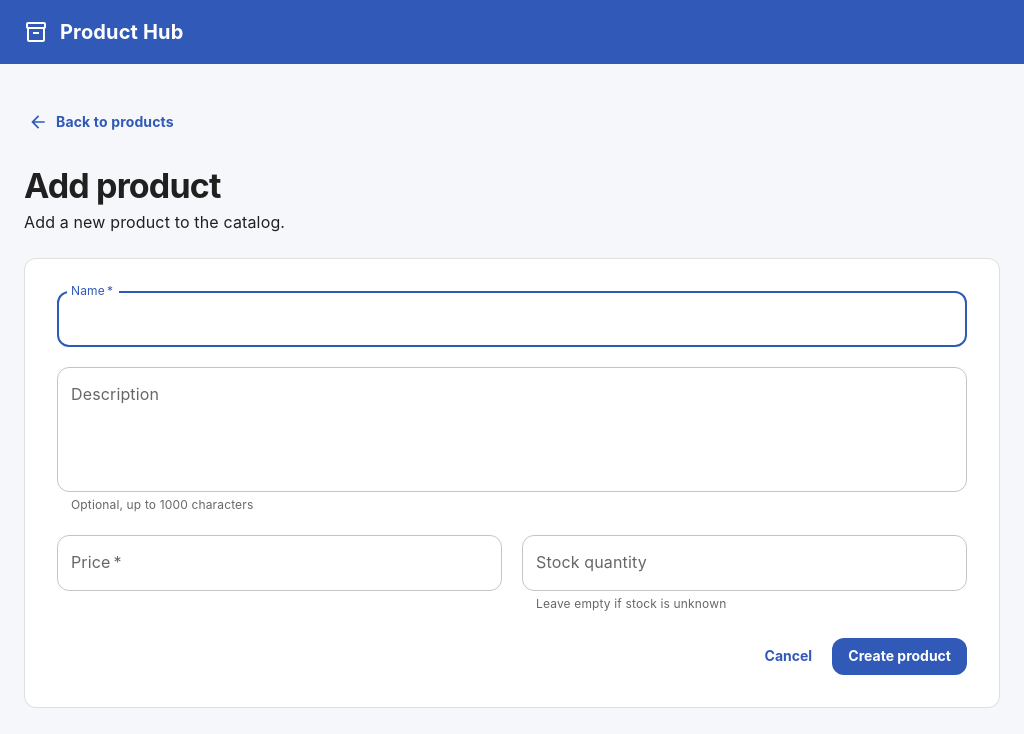
it: product mutations › maps backend validation errors and preserves entered values
Type "Coffee" into the field labelled "Name *". click: (512, 320)
box: [57,292,967,348]
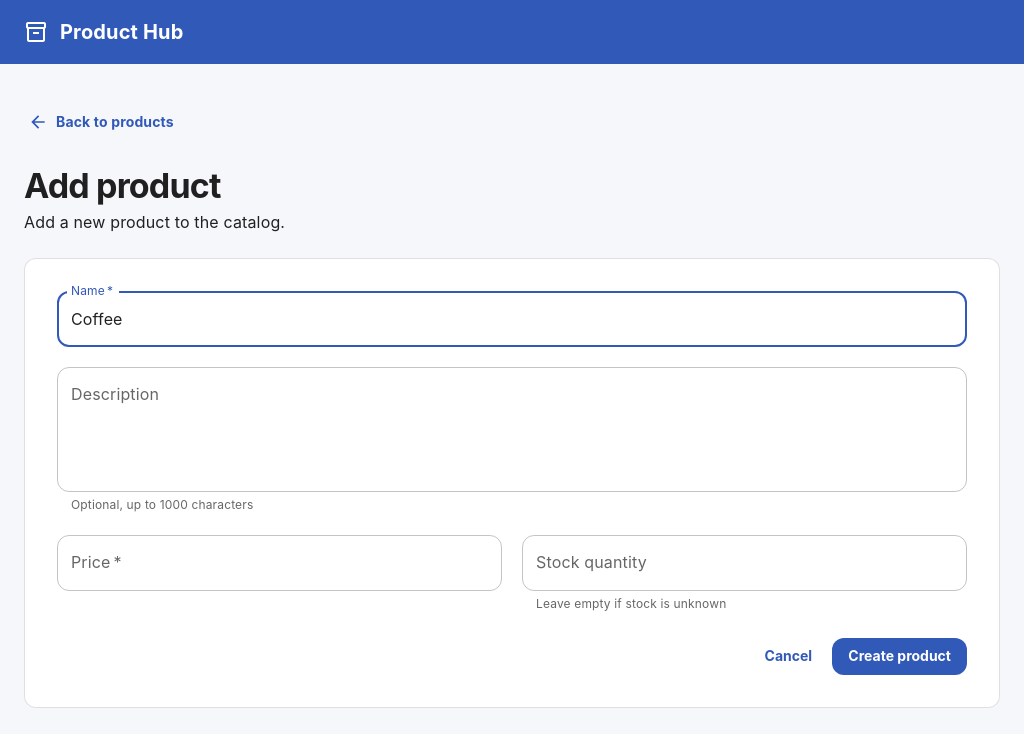
Type "Freshly roasted beans" into the text box labelled "Description". click: (512, 430)
box: [71,384,953,476]
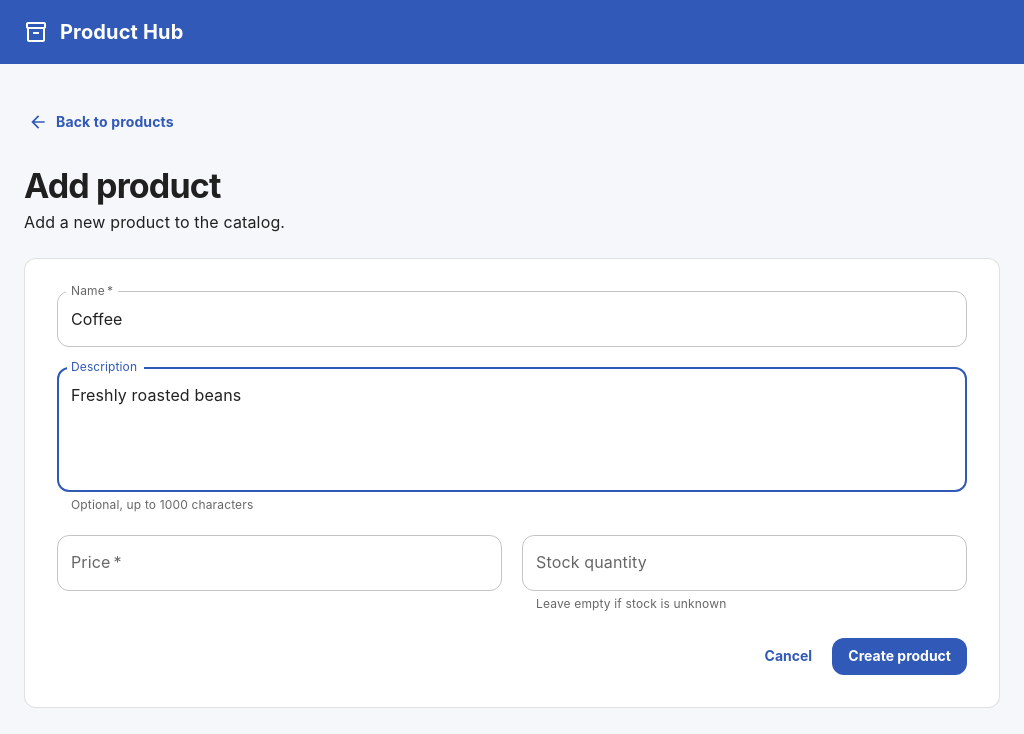
Type "12.50" into the field labelled "Price *". click: (280, 563)
box: [57,535,502,591]
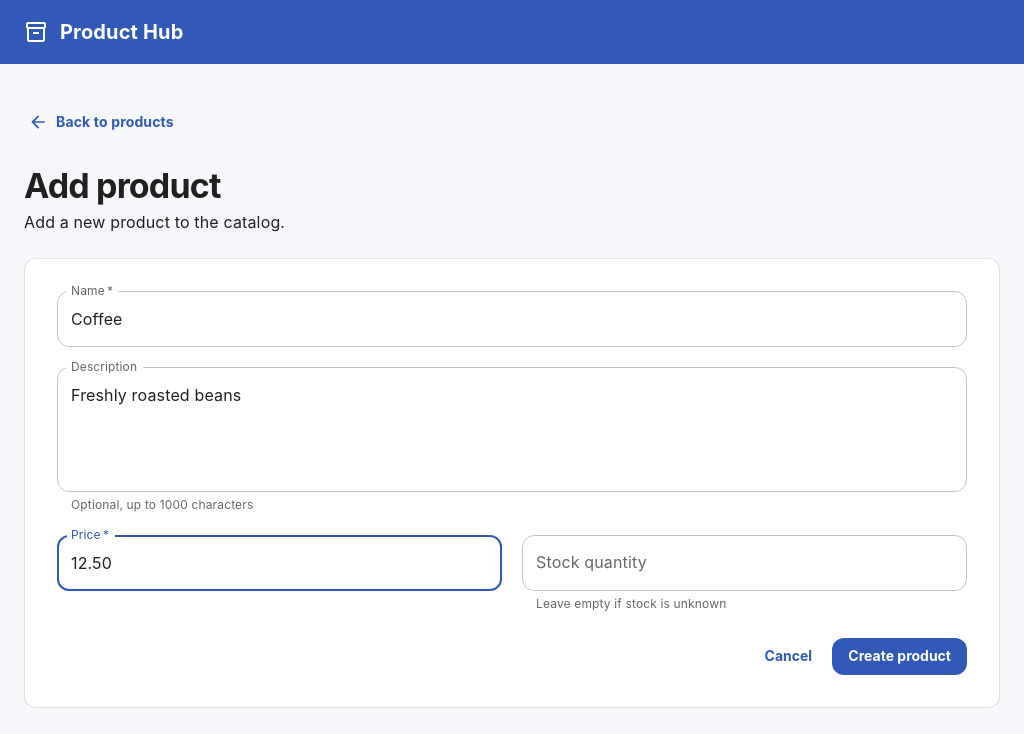
Type "8" into the number field labelled "Stock quantity". click: (744, 563)
box: [522,535,967,591]
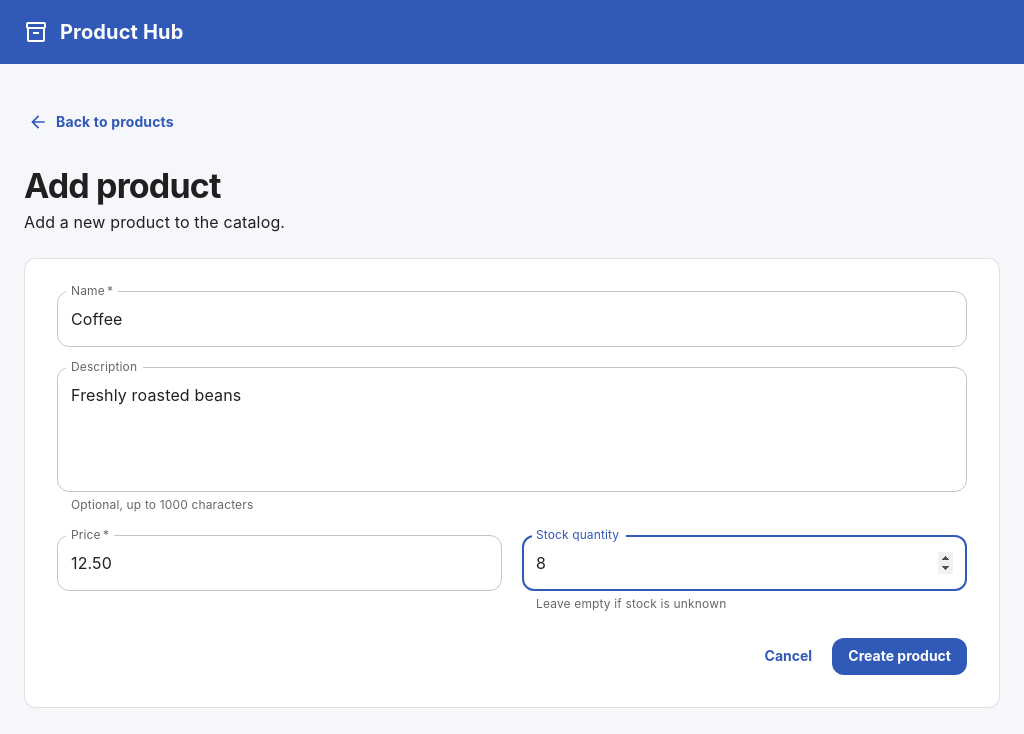
Click the button "Create product". click: (900, 657)
box: [832,638,967,675]
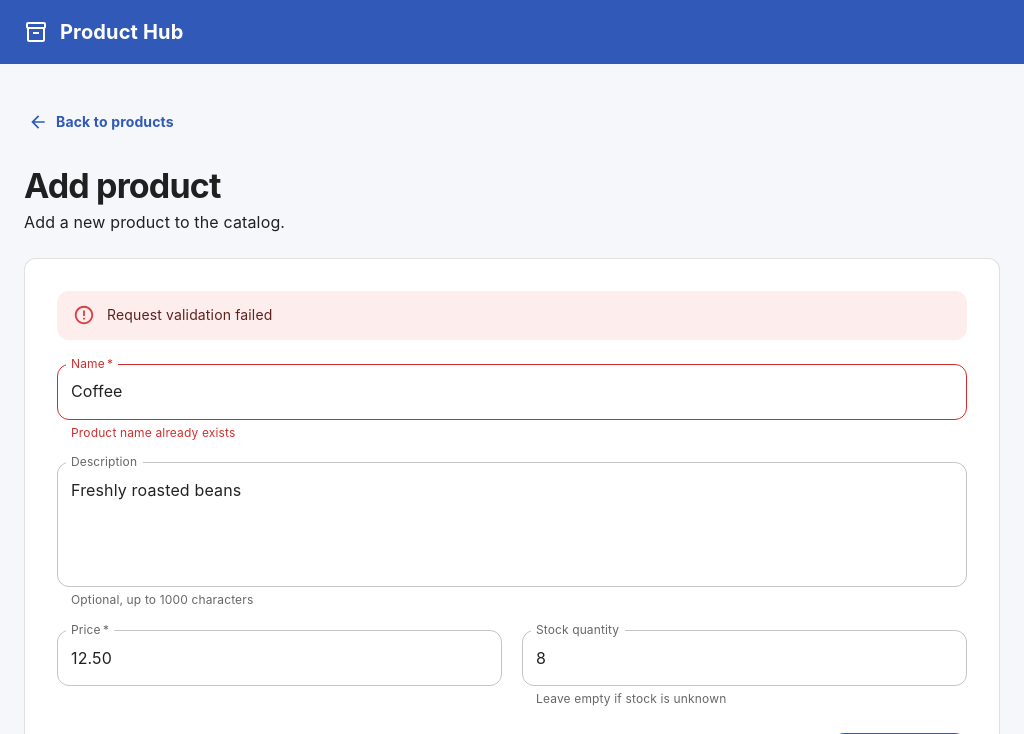
Expected: the text "Product name already exists" is shown, [71,424,236,440]
